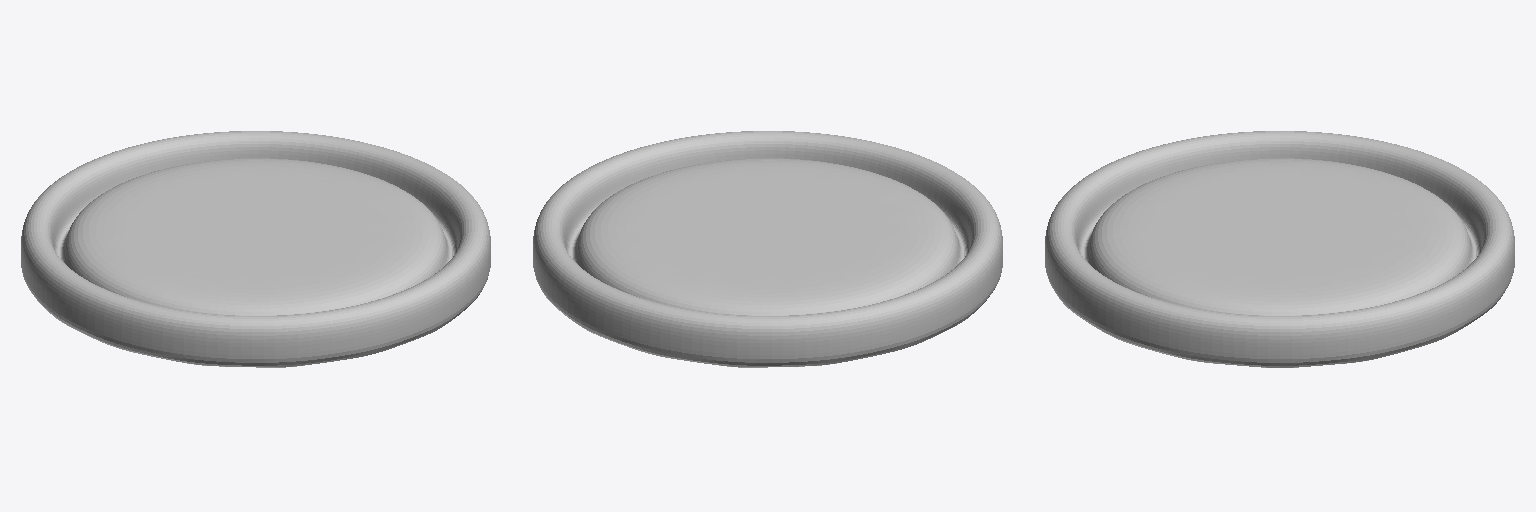
File: tomato.obj
The picture shows the model from 3 angles: view 1: azimuth 30°, elevation 25°; view 2: azimuth 150°, elevation 25°; view 3: azimuth 270°, elevation 25°; orthographic projection.
Parts seen in each view (by area): view 1: tomate; view 2: tomate; view 3: tomate.
Boxes of the visible parts, box(x1,y1,x2,y2) form: tomate: box(21, 131, 490, 367); tomate: box(533, 131, 1002, 367); tomate: box(1045, 131, 1514, 367).
Size of the model in its own units: 0.914 by 0.1332 by 0.914.